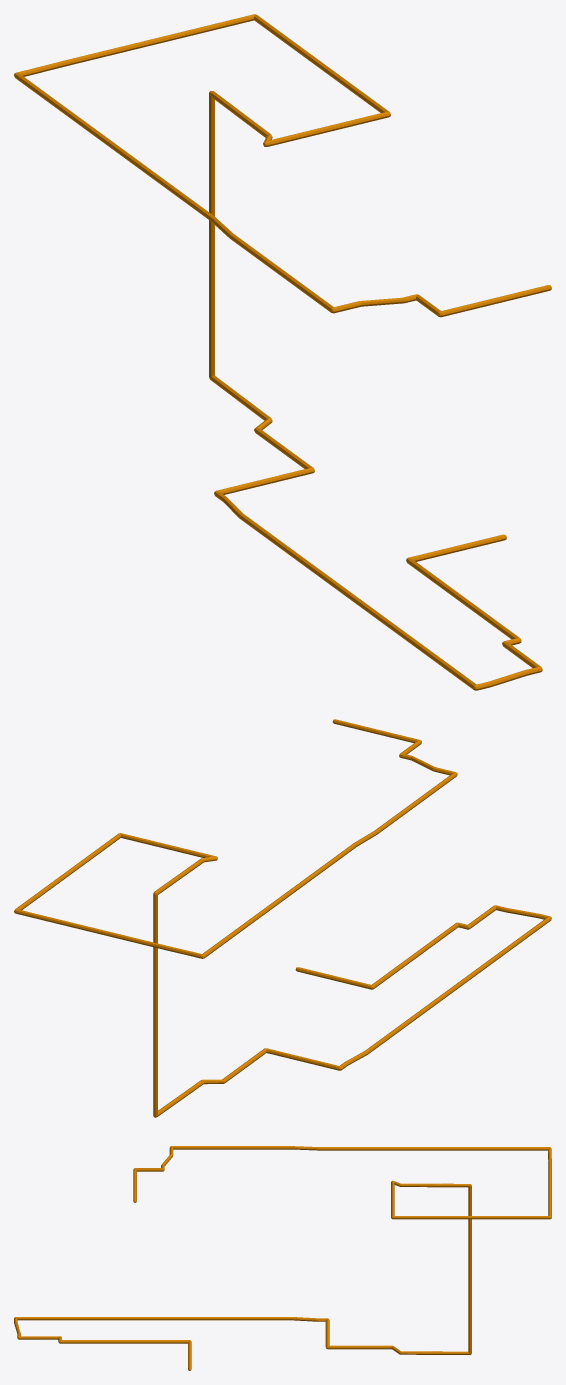
The picture shows the model from 3 angles, top to bottom: view 1: azimuth 30°, elevation 25°; view 2: azimuth 150°, elevation 25°; view 3: azimuth 270°, elevation 25°; orthographic projection. The views are drawn at different scales.
Bounding box in the file's own units: 912 × 1020 × 2907.
